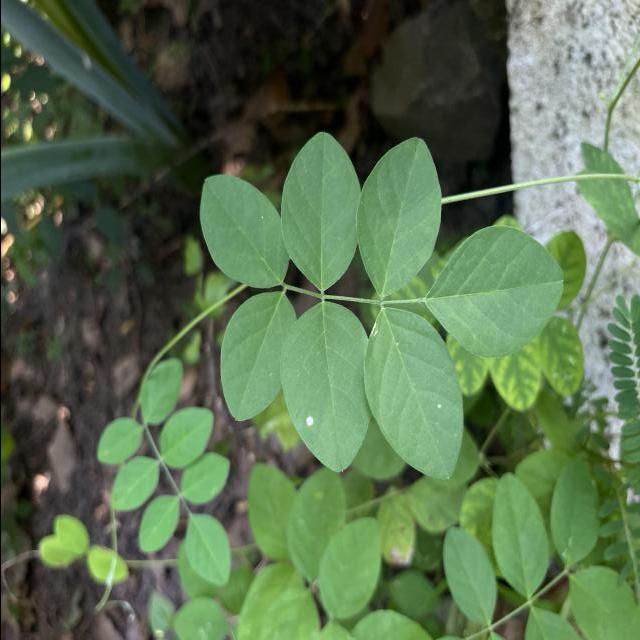Clitoria ternatea: (422, 222, 565, 360), (360, 306, 465, 482), (276, 298, 370, 477), (352, 134, 442, 298), (278, 128, 360, 292), (196, 172, 292, 290), (215, 289, 298, 424)
